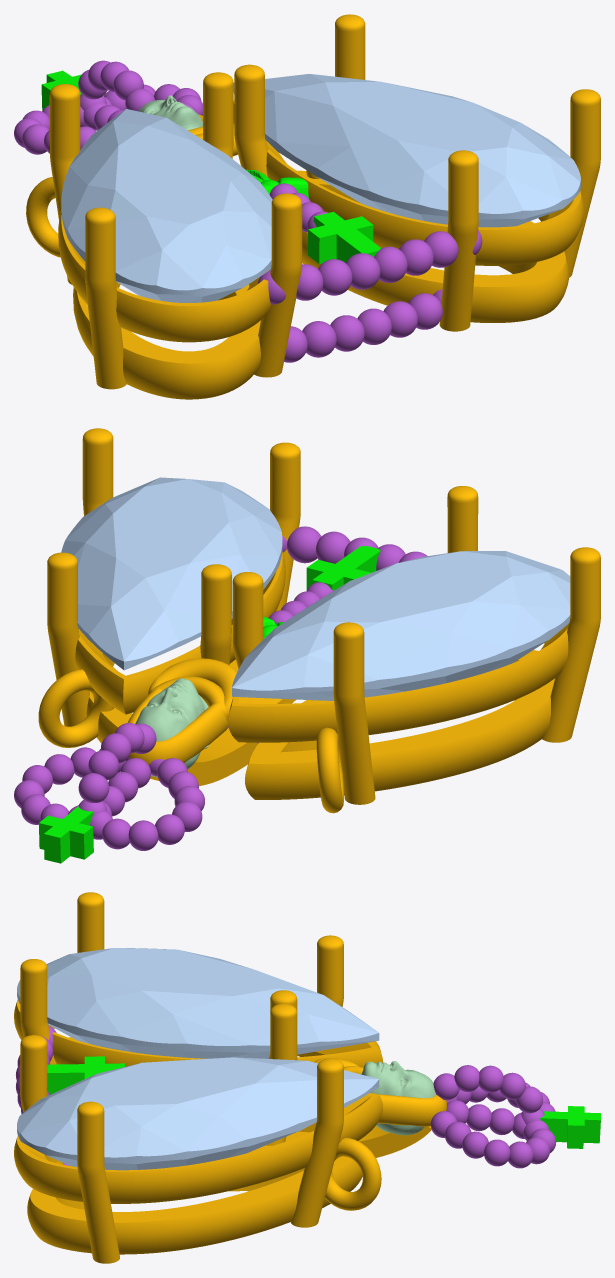
3 views of the same model, one above another, from view 1: azimuth 30°, elevation 25°; view 2: azimuth 150°, elevation 25°; view 3: azimuth 270°, elevation 25° (orthographic). The views are drawn at different scales.
Visible parts, largest first — view 1: Pingente N.S Gotas.3dm, GG_Pear (×2), BEAD (×14); view 2: Pingente N.S Gotas.3dm, GG_Pear (×2), BEAD (×12); view 3: Pingente N.S Gotas.3dm, GG_Pear (×2), BEAD (×11).
Boxes of the visible parts, x1,y1,x2,y2 form: Pingente N.S Gotas.3dm: (26,14,600,399); GG_Pear (×2): (61,74,580,302); BEAD (×14): (22,70,458,362); Pingente N.S Gotas.3dm: (38,428,600,863); GG_Pear (×2): (61,477,570,700); BEAD (×12): (21,526,350,850); Pingente N.S Gotas.3dm: (14,892,600,1263); GG_Pear (×2): (17,948,379,1170); BEAD (×11): (433,1065,543,1168).
Size of the model in its own units: 2.59 by 0.8901 by 2.91.
